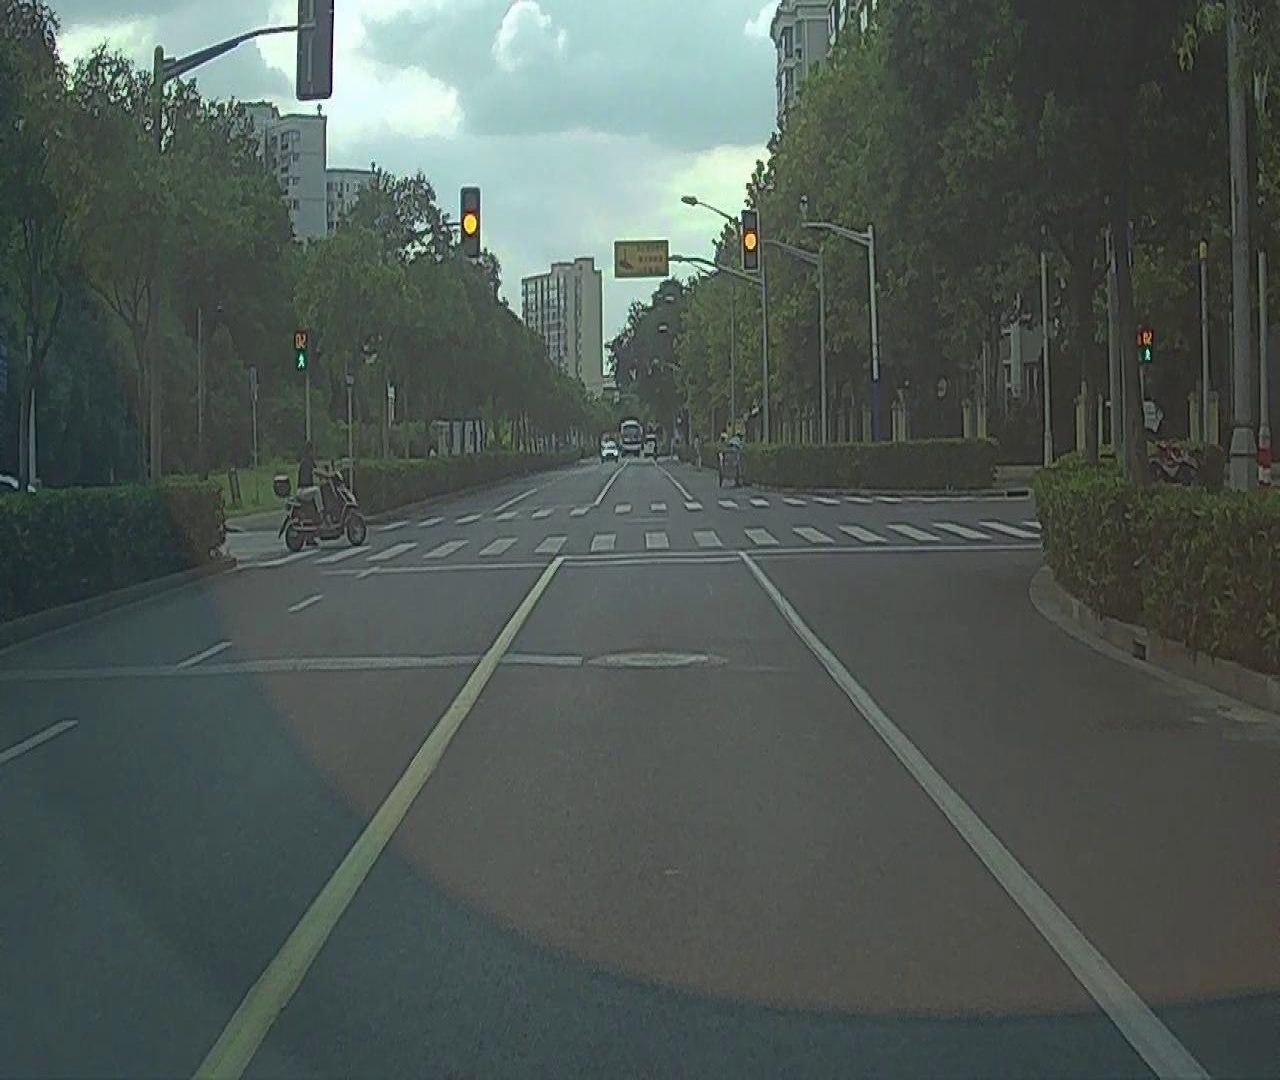yellow: (460, 183, 478, 255), (743, 213, 761, 270)
